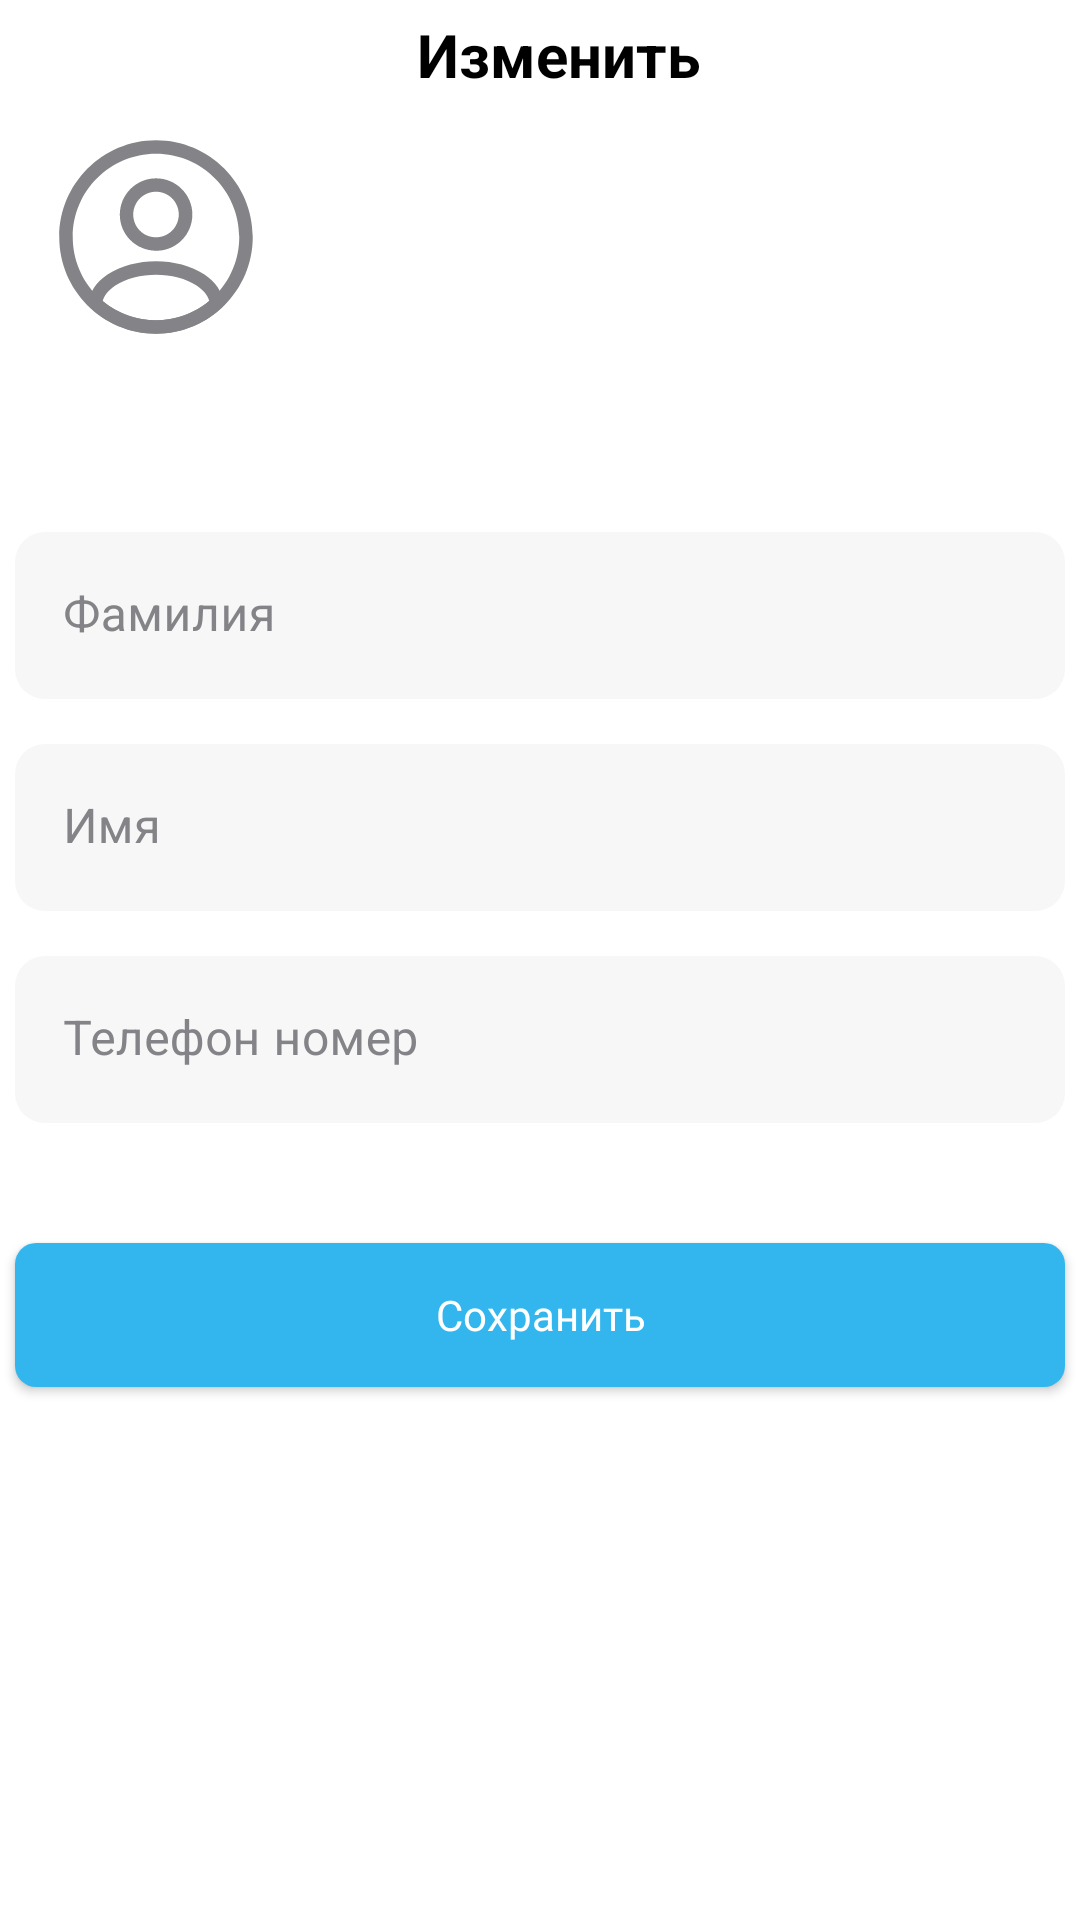

Icons on this 1080w x 1920h Android screen, each with the point to tap as point (x, y):
user: point (156, 237)
